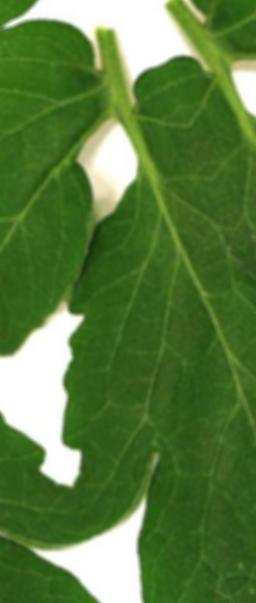Tomato leaf: (0, 57, 256, 603), (0, 8, 199, 373)
